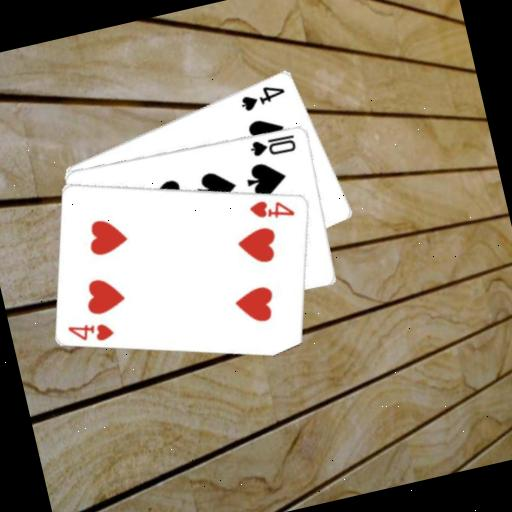10S: (246, 128, 300, 162)
4H: (64, 313, 118, 350), (245, 190, 298, 227)
4S: (235, 78, 289, 114)
